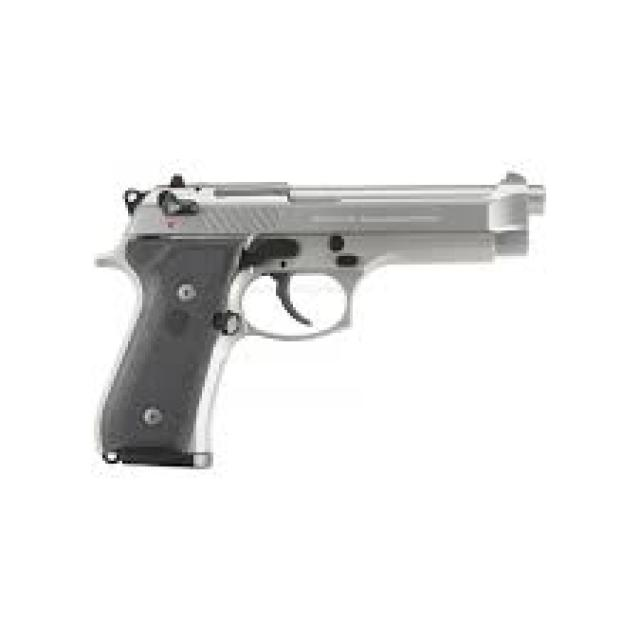Gun: (24, 98, 572, 507)
